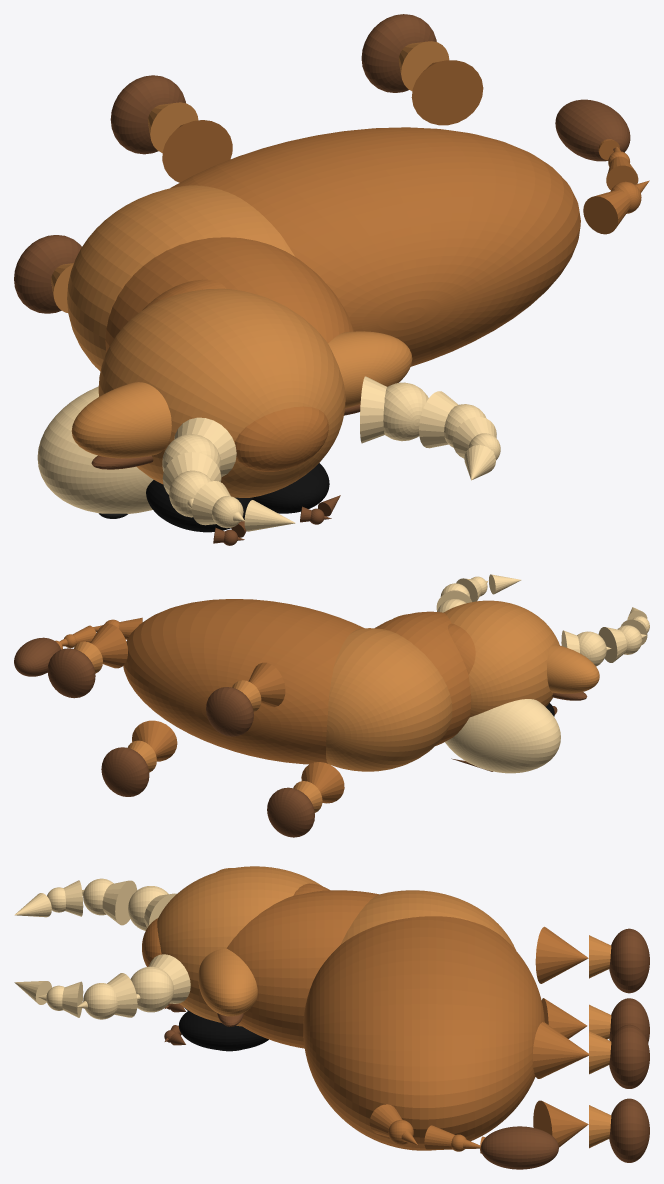
Rendered from steer_no_blue_ball.glb.
3 views of the same model, one above another, from view 1: azimuth 30°, elevation 25°; view 2: azimuth 150°, elevation 25°; view 3: azimuth 270°, elevation 25° (orthographic). The views are drawn at different scales.
Parts seen in each view (by area): view 1: body, head, shoulder, neck, muzzle, earL, forelock, earR, backRupper, backRhoof, frontRhoof, tailTuft (+21 smaller); view 2: body, shoulder, head, muzzle, neck, earL, backRhoof, frontLhoof, frontRhoof, backLhoof, tailTuft, backLupper (+11 smaller); view 3: body, neck, head, shoulder, earR, tailTuft, backLhoof, frontRhoof, backRhoof, eyeWhiteR, backRupper, frontRupper (+22 smaller).
Boxes of the visible parts, x1,y1,x2,y2 form: body: (170, 127, 580, 366); head: (98, 288, 345, 497); shoulder: (67, 185, 294, 371); neck: (105, 237, 354, 351); muzzle: (37, 386, 153, 513); earL: (71, 382, 171, 458); forelock: (234, 406, 328, 471); earR: (328, 331, 412, 408); backRupper: (411, 60, 483, 125); backRhoof: (361, 14, 436, 92); frontRhoof: (110, 75, 185, 154); tailTuft: (555, 99, 630, 161); body: (123, 599, 364, 764); shoulder: (326, 628, 452, 771); head: (443, 600, 559, 717); muzzle: (445, 699, 560, 773); neck: (375, 611, 471, 745); earL: (547, 644, 599, 693); backRhoof: (47, 648, 95, 698); frontLhoof: (267, 787, 314, 837); frontRhoof: (206, 687, 253, 736); backLhoof: (101, 747, 149, 796); tailTuft: (14, 637, 60, 676); backLupper: (132, 720, 177, 761); body: (303, 916, 544, 1150); neck: (226, 890, 378, 1048); head: (157, 866, 321, 1026); shoulder: (340, 890, 515, 949); earR: (198, 948, 257, 1016); tailTuft: (480, 1126, 558, 1169); backLhoof: (609, 1098, 649, 1162); frontRhoof: (609, 928, 649, 993); backRhoof: (609, 1024, 649, 1088); eyeWhiteR: (178, 1010, 268, 1050); backRupper: (532, 1022, 588, 1078); frontRupper: (535, 926, 588, 983).
Bounding box in the file's own units: 5.74 × 1.72 × 5.52.
